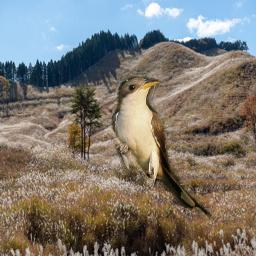Cuckoo: (111, 76, 214, 224)
